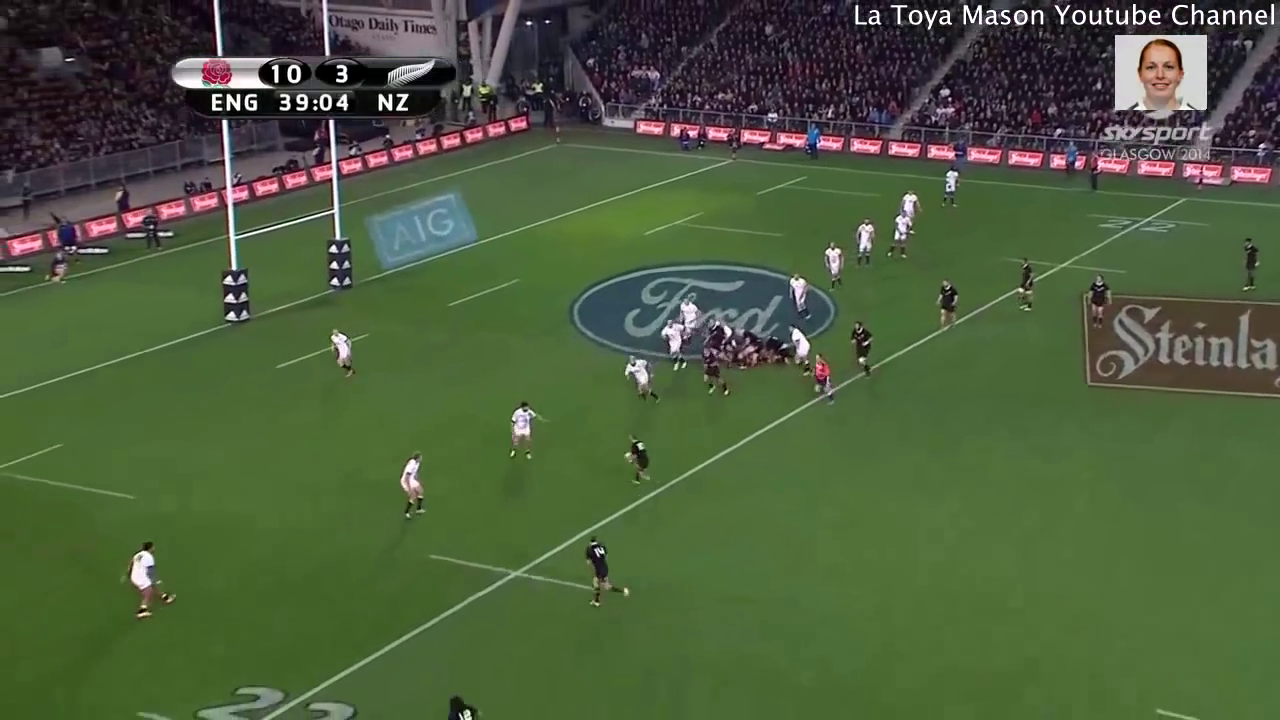player: (126, 537, 183, 617), (577, 532, 629, 610), (503, 394, 546, 464), (395, 446, 429, 518), (619, 351, 659, 407), (1081, 269, 1114, 335), (846, 316, 877, 381), (621, 429, 651, 488), (328, 326, 359, 383), (805, 348, 837, 403), (659, 314, 689, 372), (1237, 233, 1264, 297), (700, 347, 730, 401), (785, 271, 812, 325), (851, 219, 878, 271), (1015, 256, 1036, 316), (937, 276, 959, 332), (785, 321, 809, 372), (674, 292, 700, 338), (888, 212, 909, 267), (821, 243, 845, 289), (937, 163, 960, 210), (900, 190, 921, 220)
post: (216, 120, 353, 332)
ruck: (700, 315, 783, 366)
